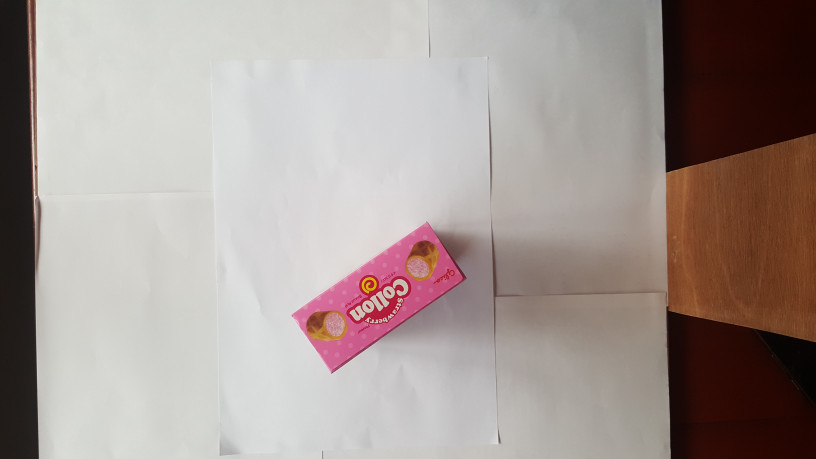collon-strawberry: (291, 220, 468, 374)
